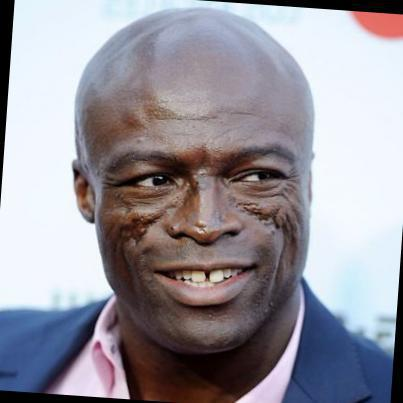Sober: (97, 60, 305, 341)
